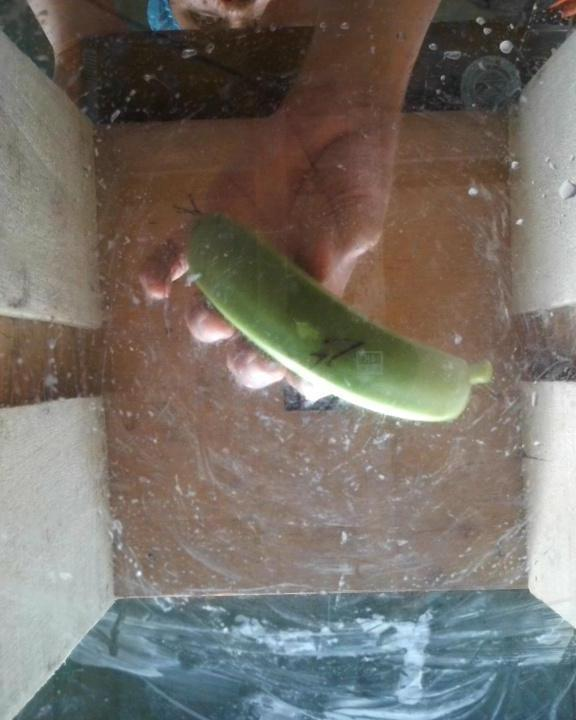CLASS B: (172, 195, 504, 435)
Class A: (302, 327, 363, 377)
